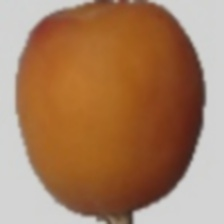apricot: (39, 13, 219, 174)
